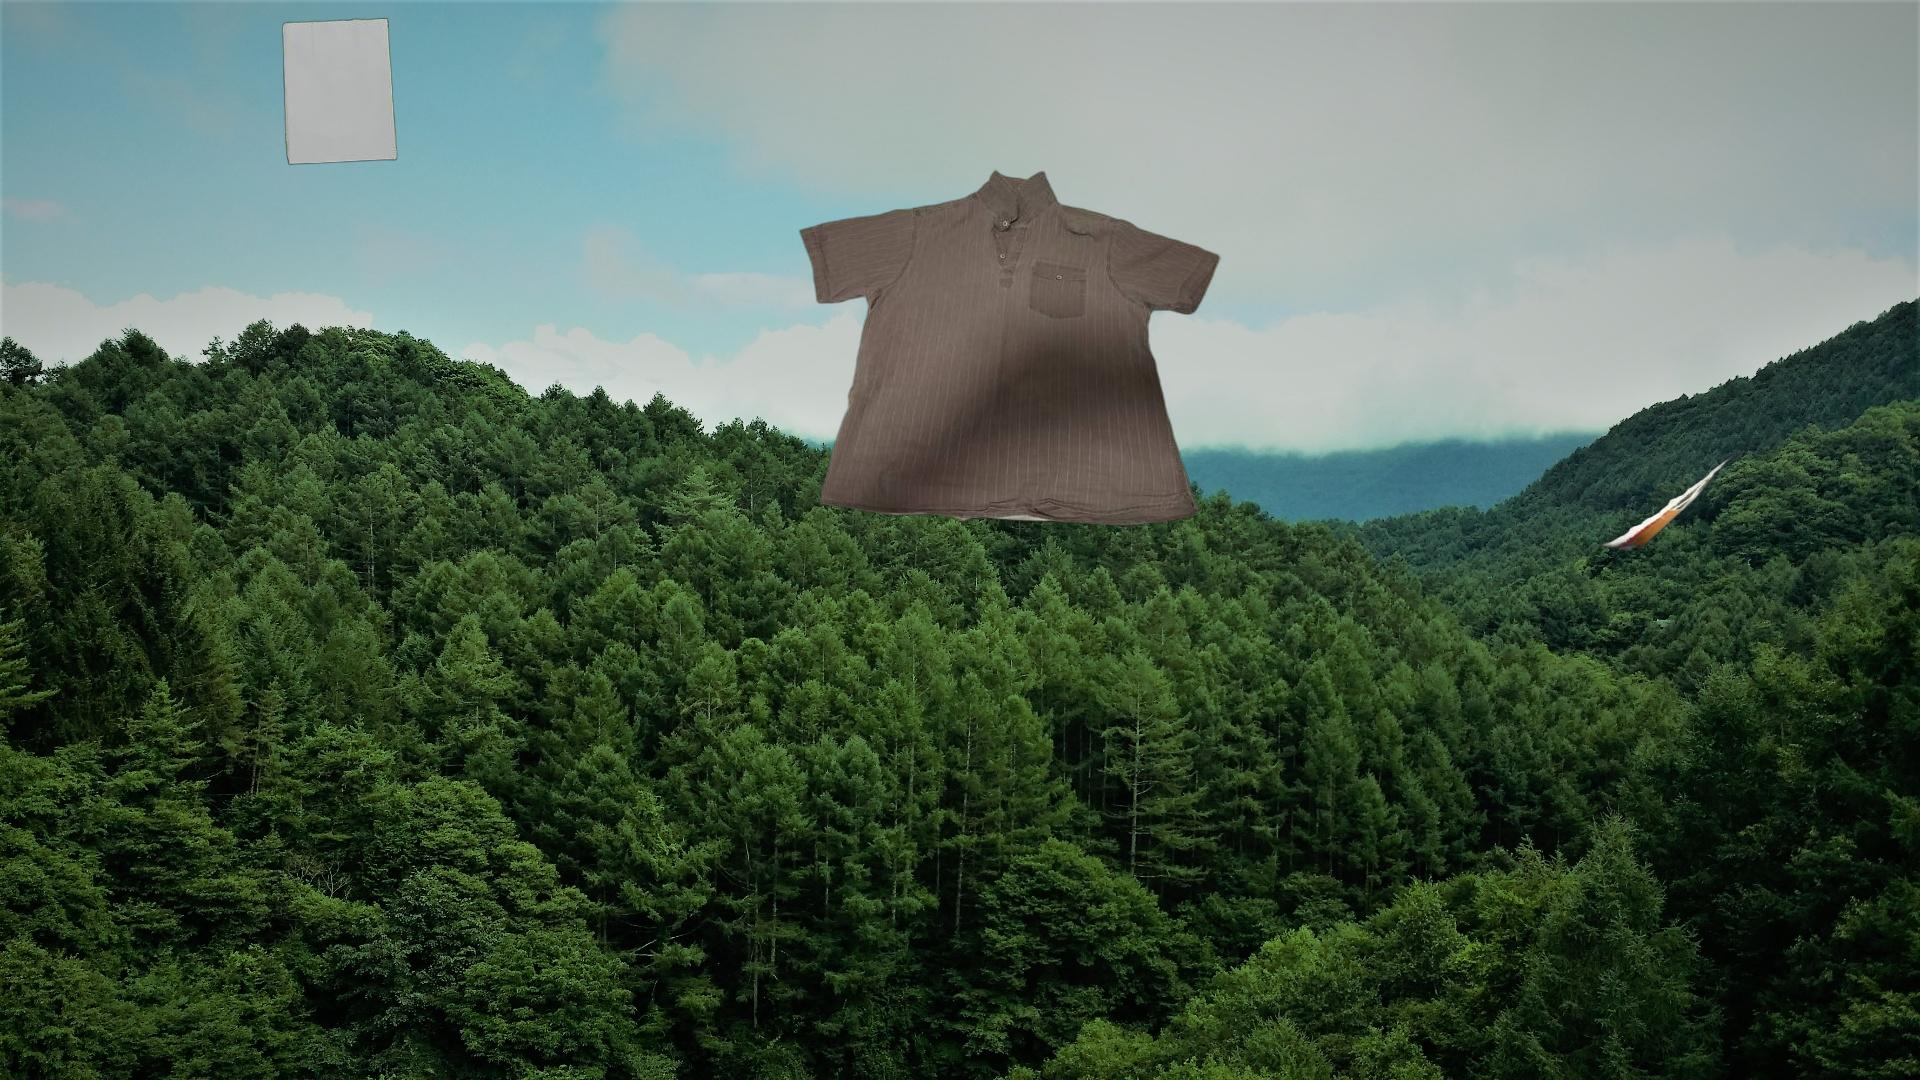clothes: (796, 167, 1224, 531)
paper: (1588, 359, 1847, 555)
paper-bag: (280, 15, 560, 166)
